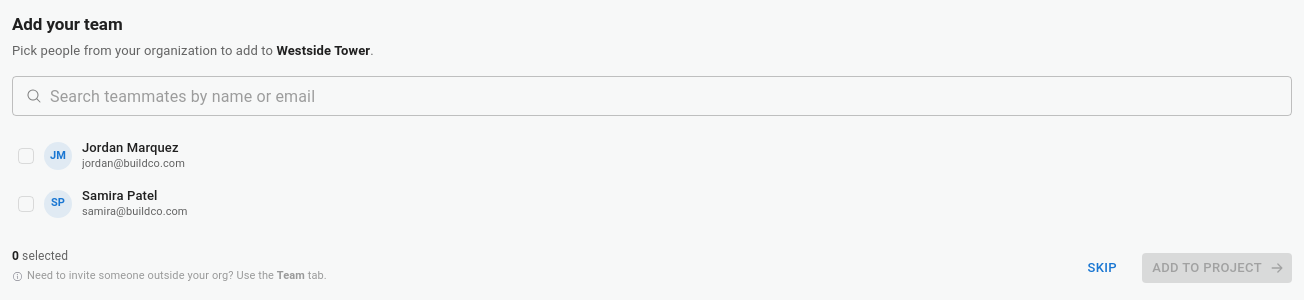
Test case: AddProjectMembersStep › filters the list when typing in search
Type "samira" into the field with placeholder "Search teammates by name or email".
click(671, 96); type("samira")  # box left=50, top=76, right=1292, bottom=116
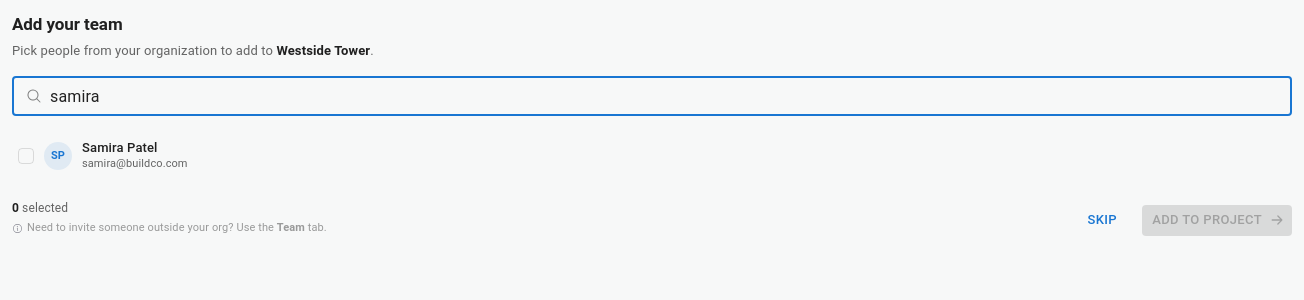
Expected: the text "Samira Patel" is shown, left=82, top=140, right=158, bottom=155
Now the button "Jordan Marquez" is gone
